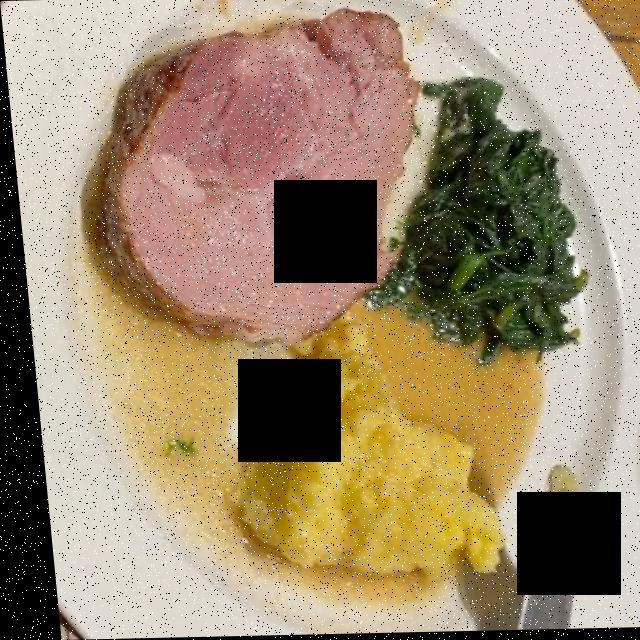polenta: (211, 357, 500, 581)
sauce: (97, 276, 547, 609)
spinach: (405, 103, 578, 349)
